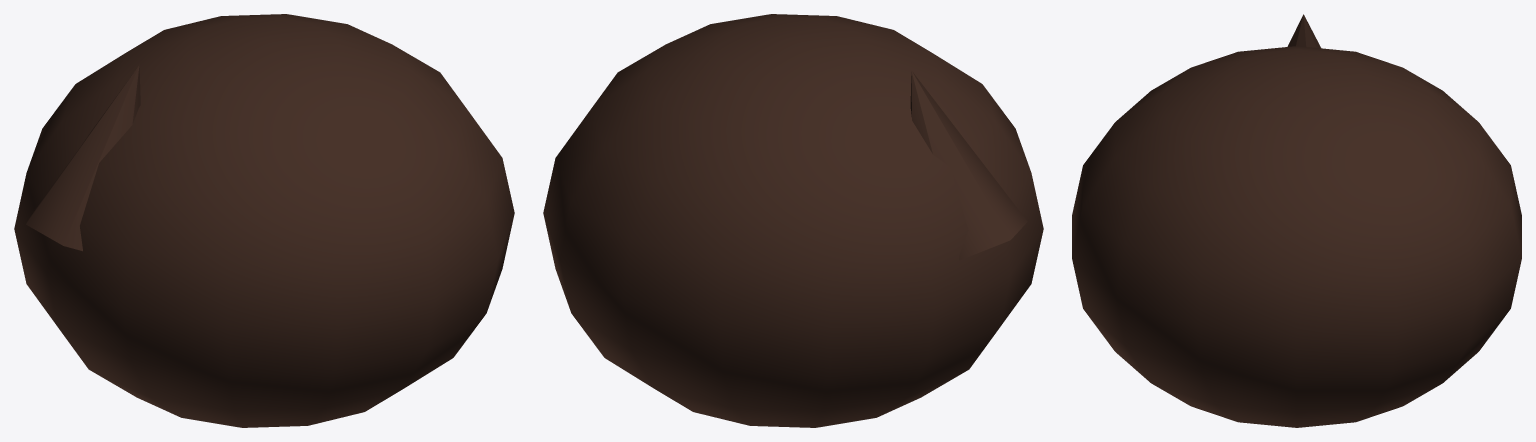
Rendered from resident_02_hair.glb.
3 views of the same model, side by side, from view 1: azimuth 30°, elevation 25°; view 2: azimuth 150°, elevation 25°; view 3: azimuth 270°, elevation 25° (orthographic). The views are drawn at different scales.
Visible parts, largest first — view 1: hair_cap, hair_detail_1; view 2: hair_cap, hair_detail_1; view 3: hair_cap, hair_detail_1.
Boxes of the visible parts, bbox=[...] form: hair_cap: bbox=[14, 14, 514, 427]; hair_detail_1: bbox=[26, 65, 140, 251]; hair_cap: bbox=[543, 14, 1043, 427]; hair_detail_1: bbox=[910, 70, 1027, 260]; hair_cap: bbox=[1072, 46, 1521, 427]; hair_detail_1: bbox=[1287, 14, 1320, 48].
Size of the model in its own units: 0.717 by 0.5586 by 0.6824.
